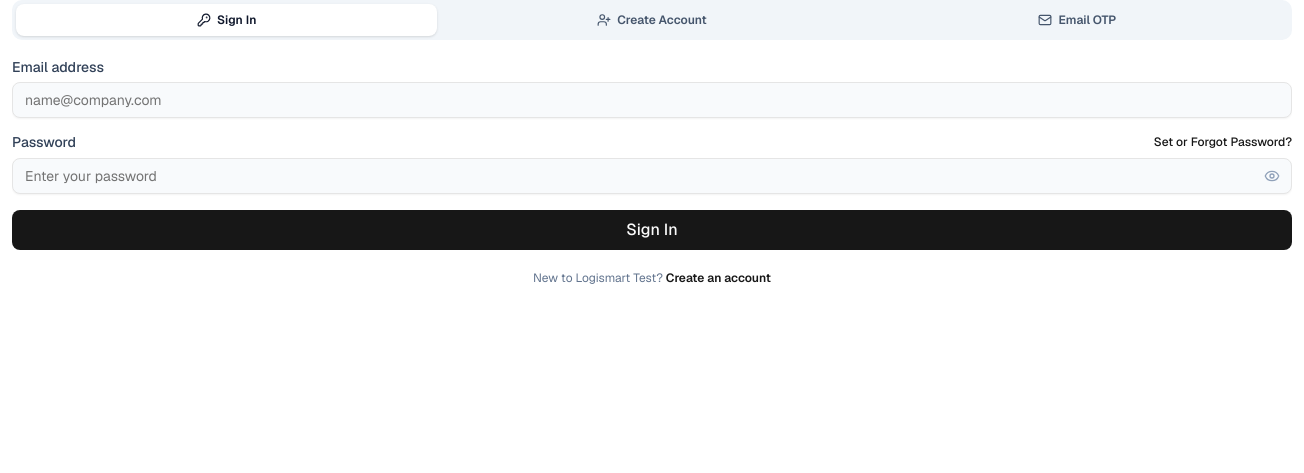
Test case: LoginForm signup consent (C-08) › sends terms_accepted=true once the checkbox is ticked
The image size is (1304, 473).
Click the tab with test id "tab-signup" at (652, 20), box [441,4,863,36]
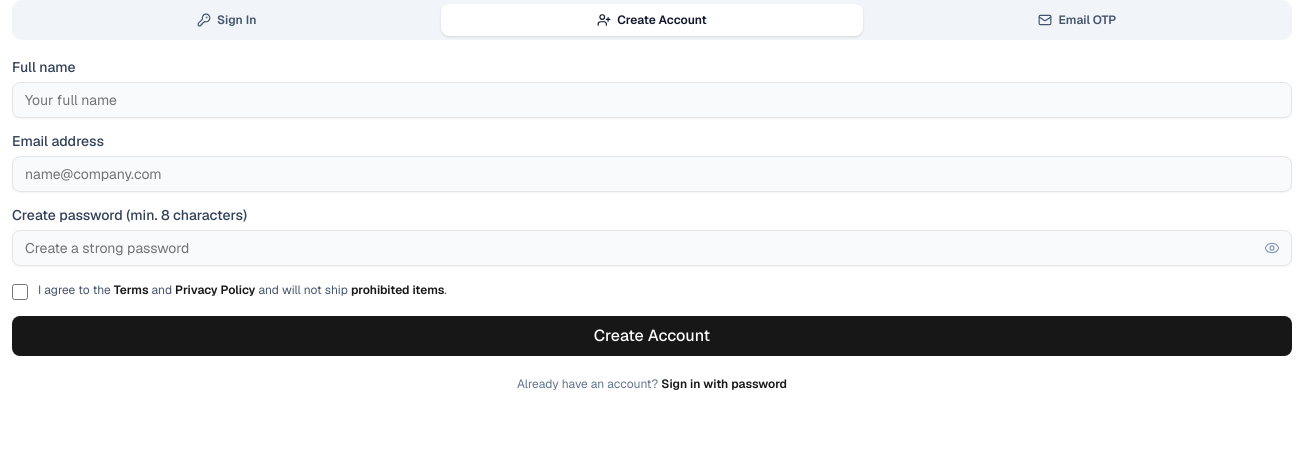
Type "new@seller.in" into the field labelled "Email address" at (652, 174), box [12,156,1292,192]
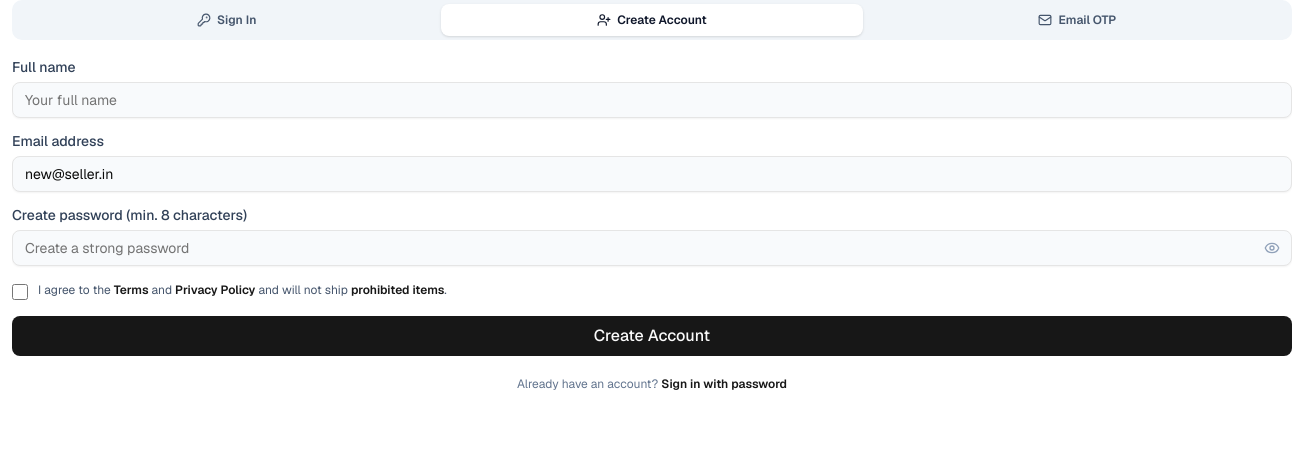
Type "Secret-123" into the password field labelled "Create password (min. 8 characters)" at (652, 248), box [12,230,1292,266]
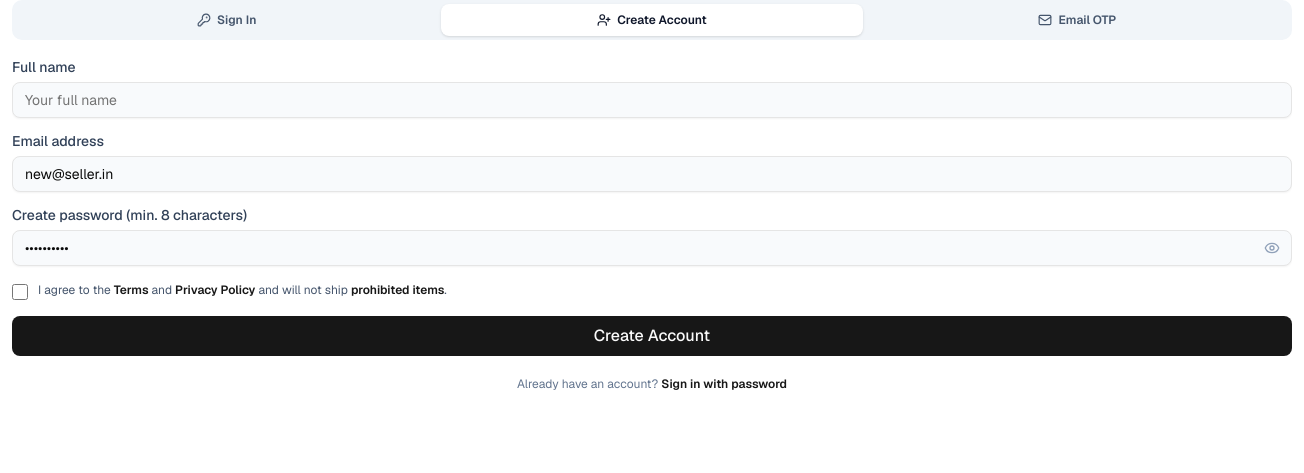
Click the checkbox with test id "signup-terms-checkbox" at (20, 292), box [12,284,28,300]
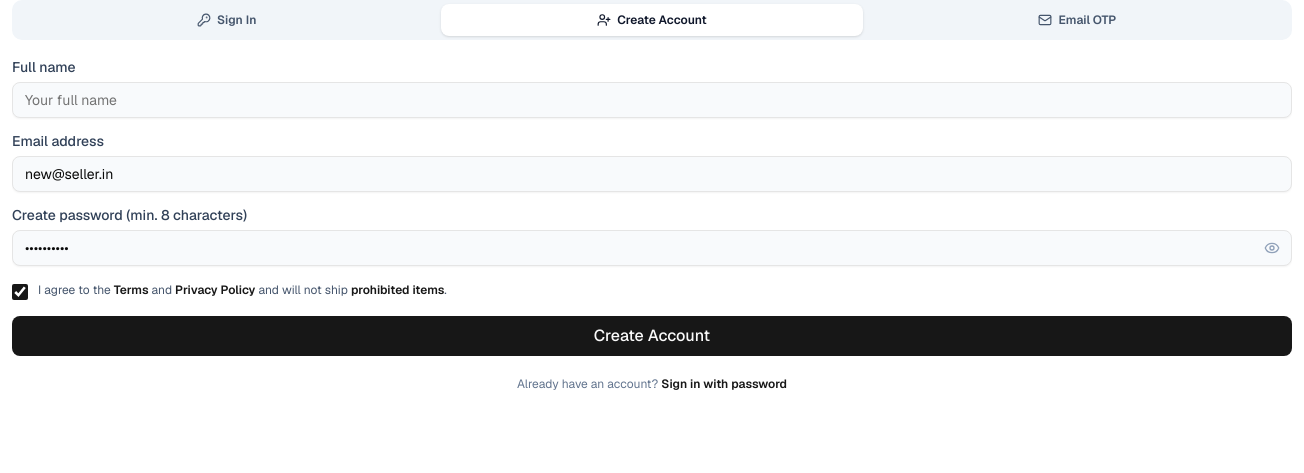
Submit the form with test id "submit-create-account"
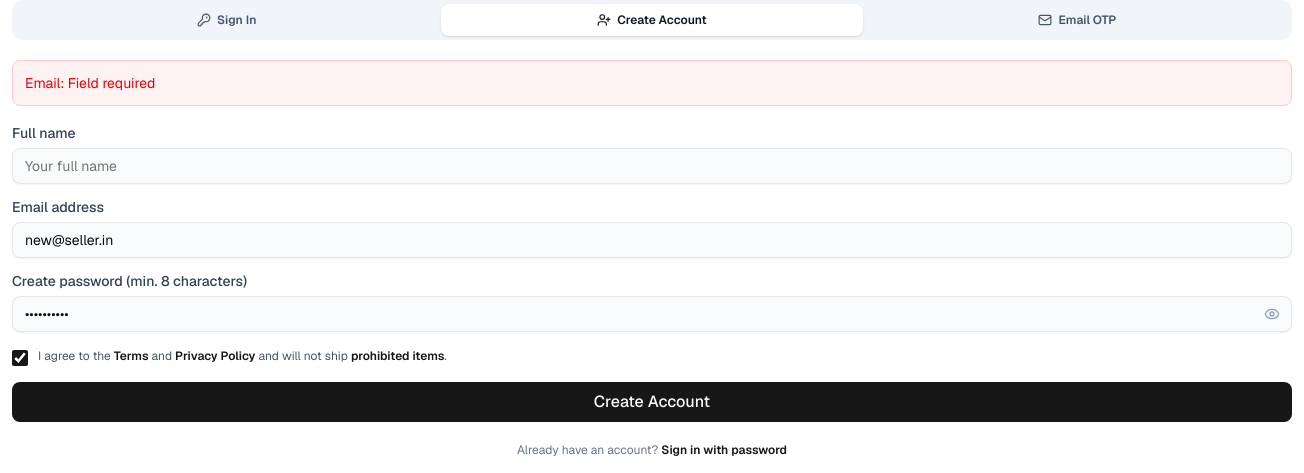
expect the text "Email: Field required" is shown: met, box [12,60,1292,106]
